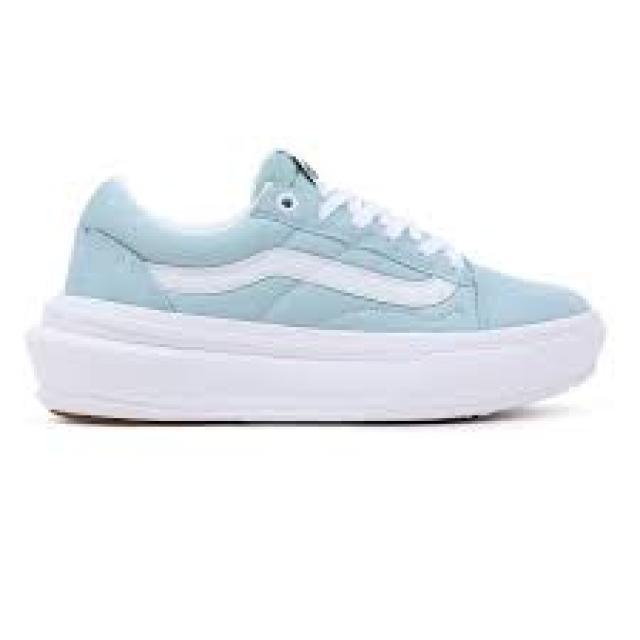shoe: (38, 146, 608, 424)
